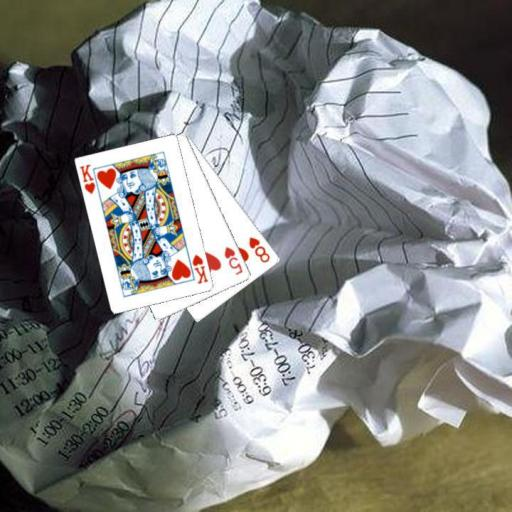5H: (221, 244, 245, 277)
8H: (246, 233, 272, 265)
KH: (189, 251, 210, 285), (77, 161, 97, 196)
